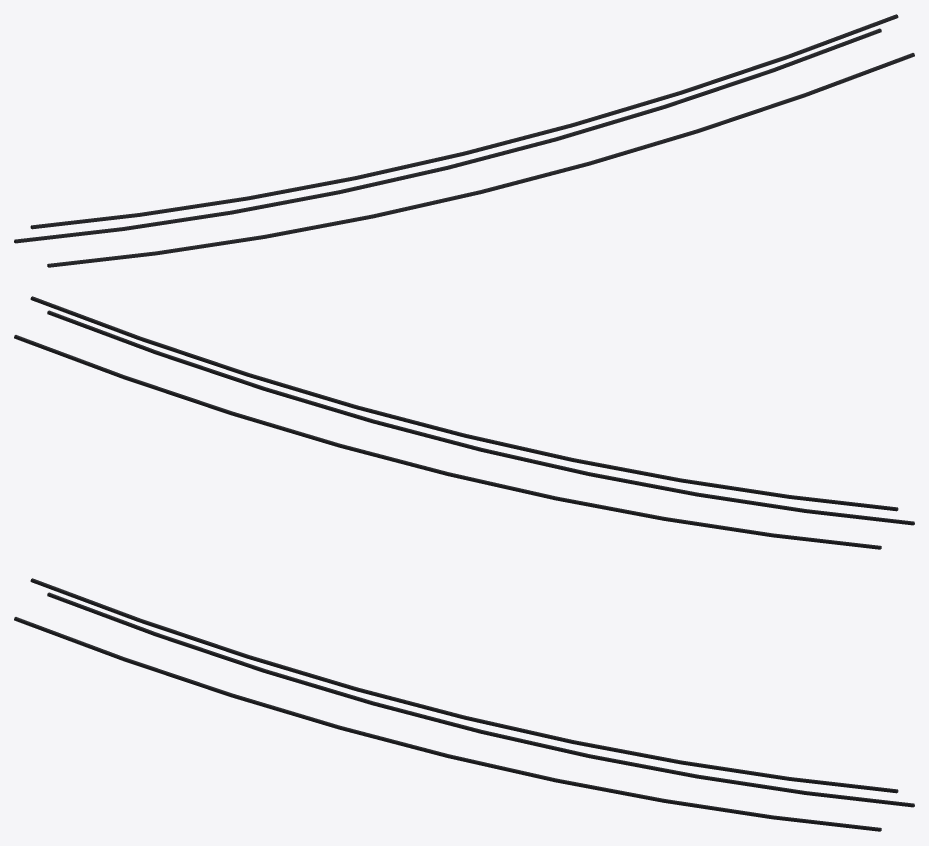
File: SM_Street_PowerLine_Span12_01.fbx
The picture shows the model from 3 angles, top to bottom: view 1: azimuth 30°, elevation 25°; view 2: azimuth 150°, elevation 25°; view 3: azimuth 330°, elevation 25°; orthographic projection.
Visible parts, largest first — view 1: SM_Street_PowerLine_Span12_01; view 2: SM_Street_PowerLine_Span12_01; view 3: SM_Street_PowerLine_Span12_01.
Part boxes in pixels (x1,y1,x2,y2): SM_Street_PowerLine_Span12_01: (14, 14, 914, 267); SM_Street_PowerLine_Span12_01: (14, 296, 914, 549); SM_Street_PowerLine_Span12_01: (14, 578, 914, 831).
Bounding box in the file's own units: 12.05 × 0.8094 × 0.836.
1 material, 1 textured.
